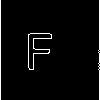F: (24, 25, 54, 70)
